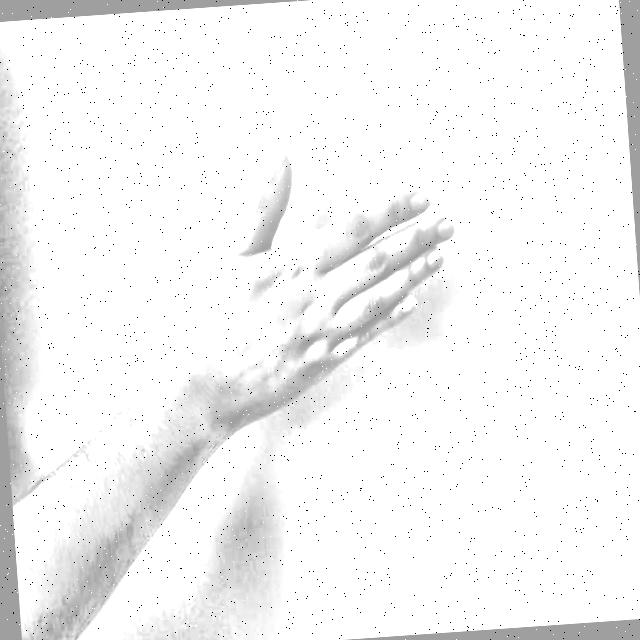Aa: (188, 125, 494, 457)
